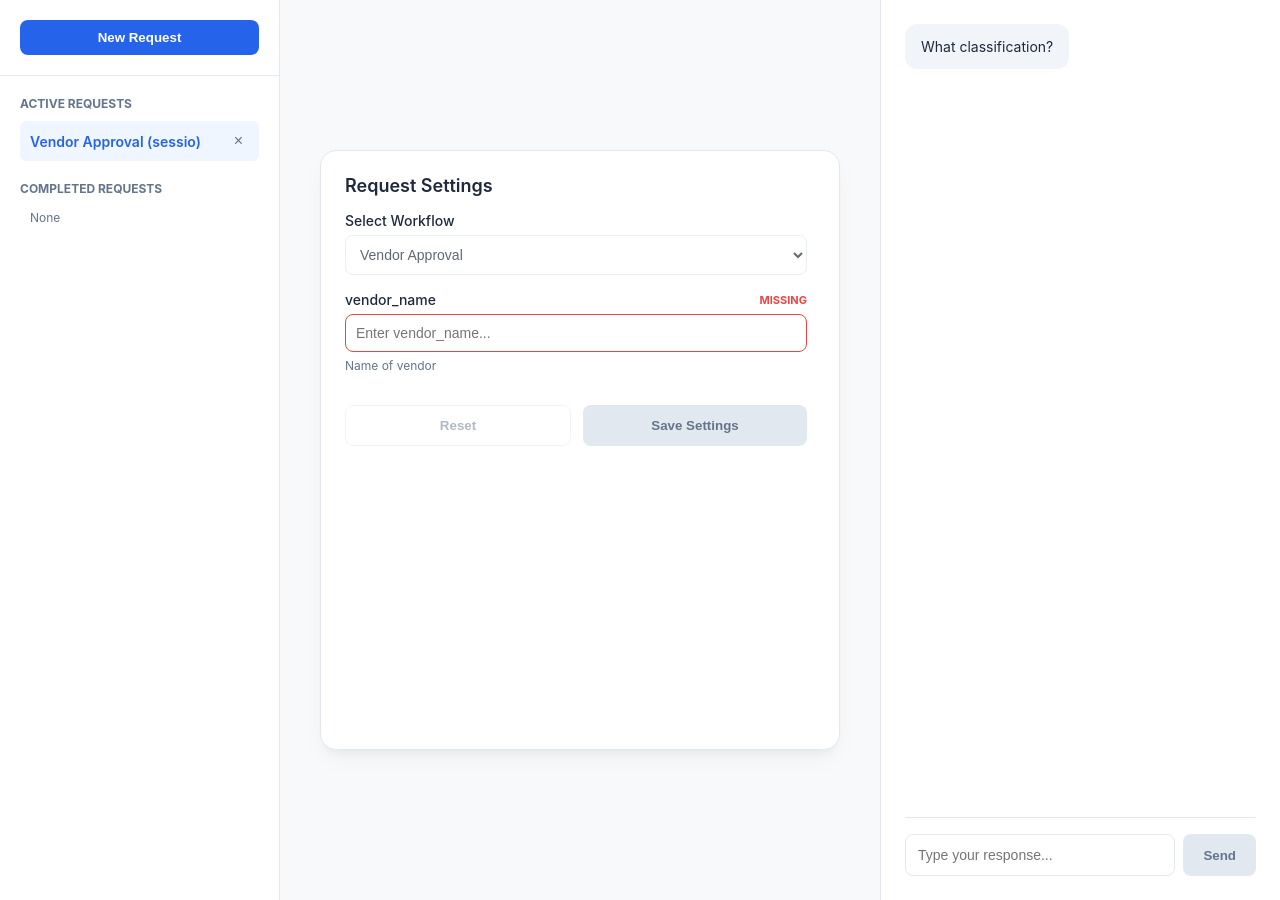
App Integration › allows deletion of a session
Expected: the text "Vendor Approval (sessio)" is shown, [30, 132, 228, 150]
Click the button named "Delete Request": (238, 141) [228, 131, 249, 151]
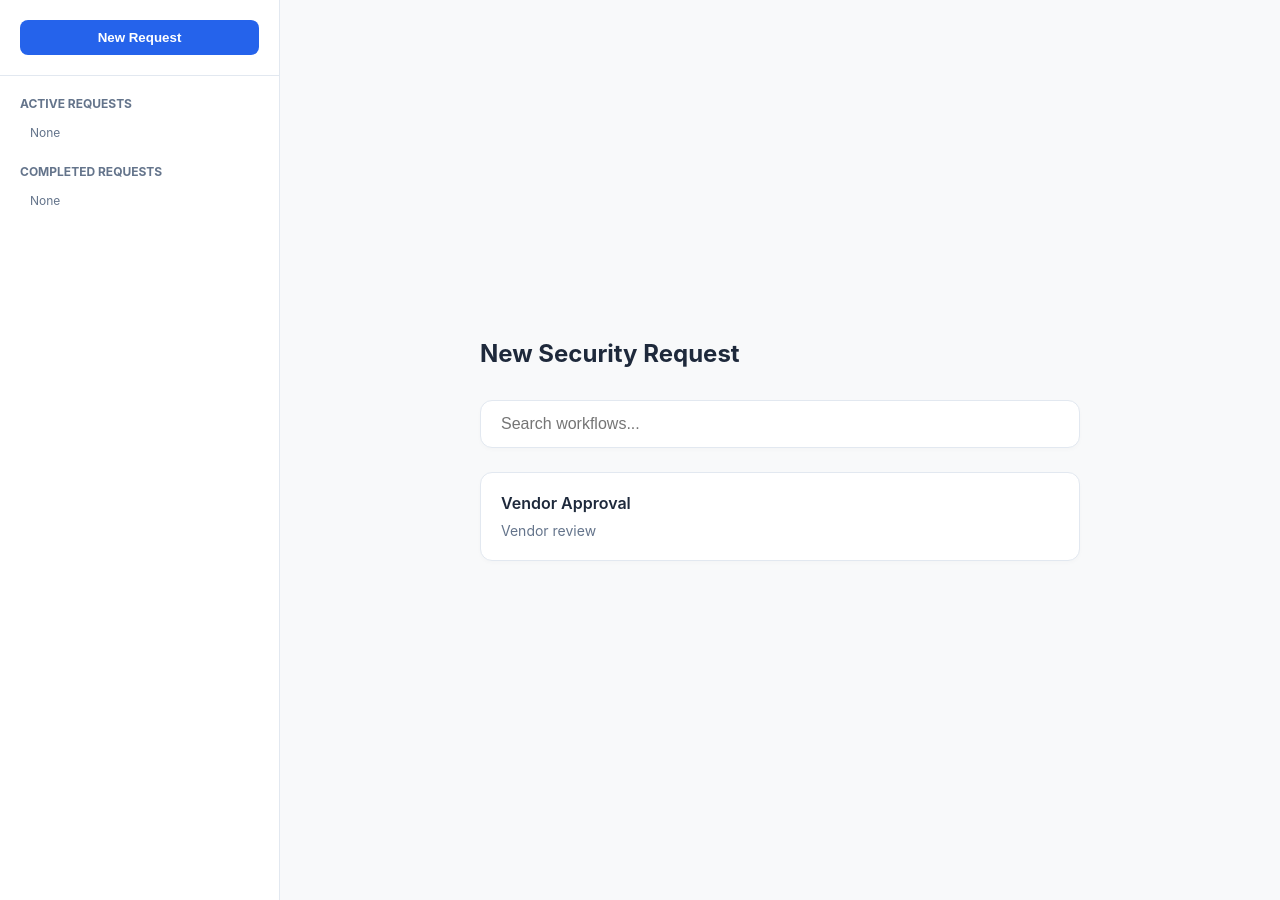
Expected: the text "Vendor Approval (sessio)" is gone
